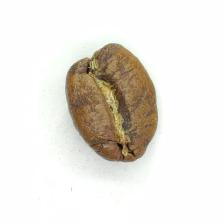NG: (77, 53, 144, 151)
